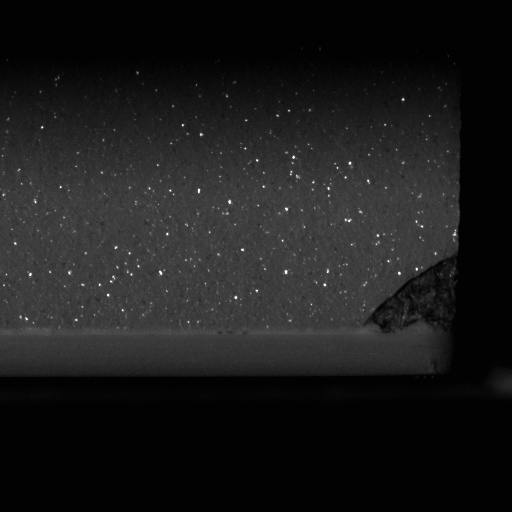bengque: (362, 253, 460, 337)
